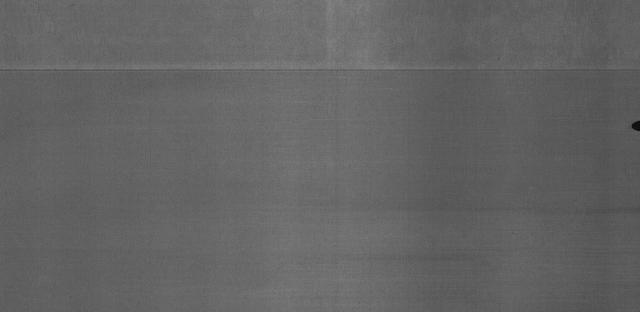punching_hole: (629, 117, 640, 133)
welding_line: (0, 58, 639, 81)
